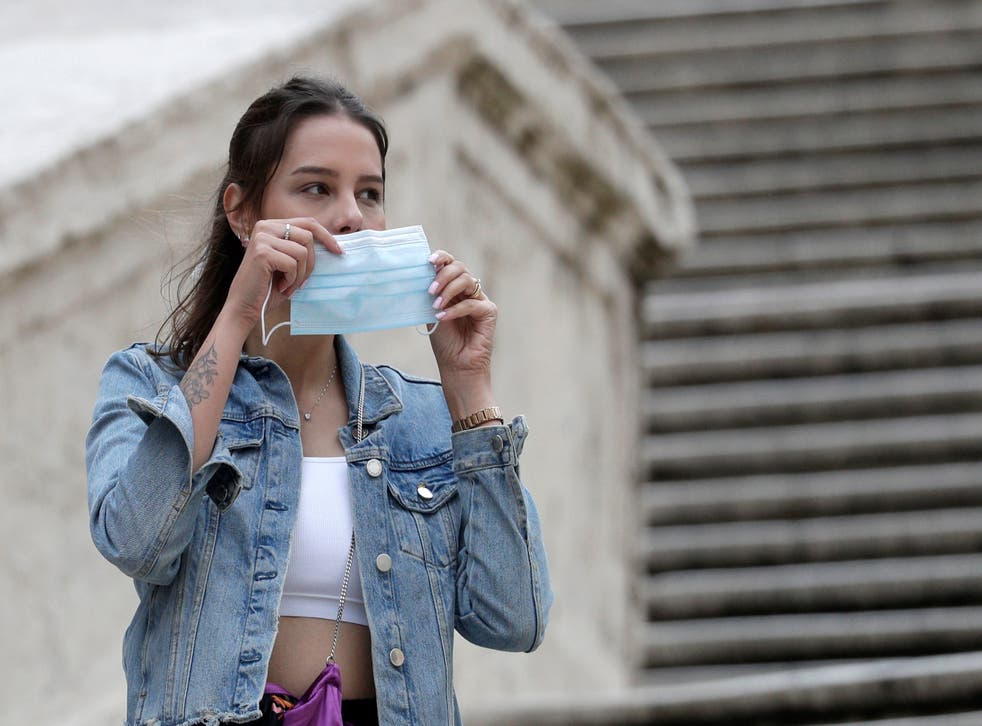with_incorrect_mask: (288, 126, 386, 292)
